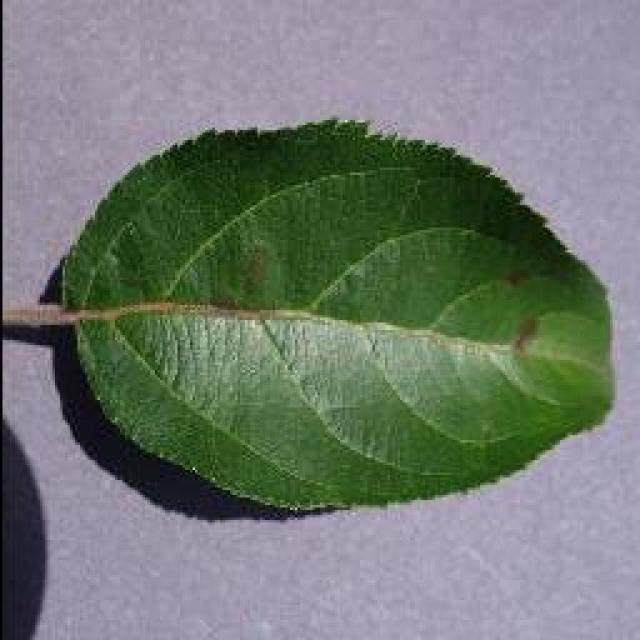apple scab disease: (38, 115, 618, 515)
